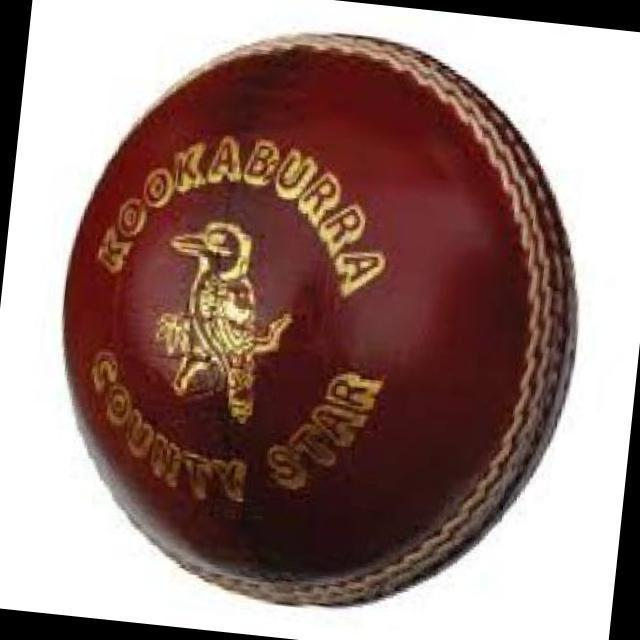-: (43, 66, 640, 608)
